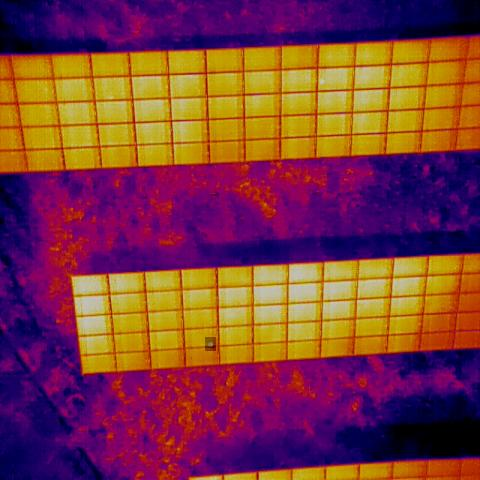fault: (205, 337, 216, 351)
